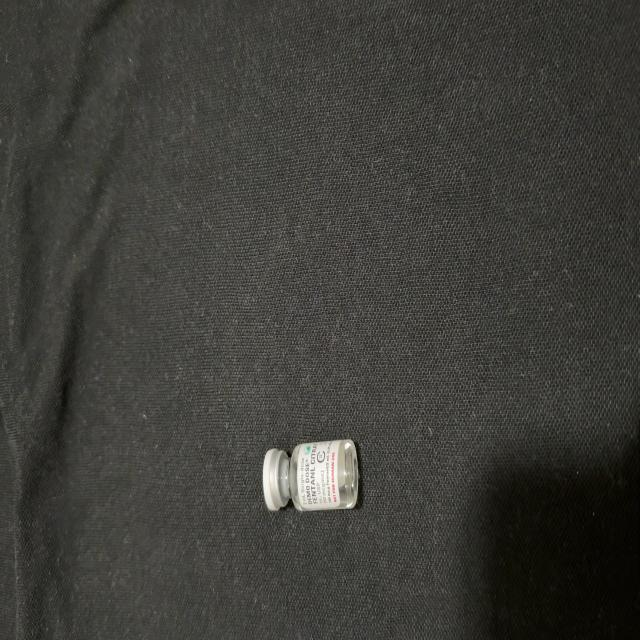fentanl_citrat: (264, 439, 359, 512)
